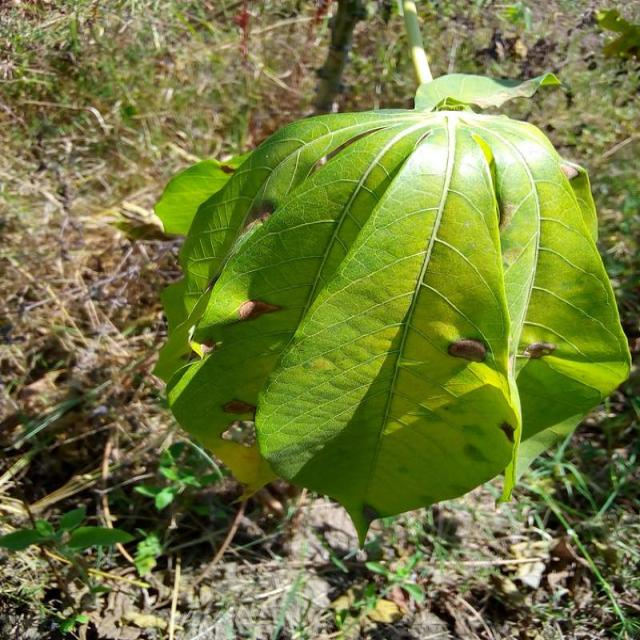cassava leaf: (154, 93, 632, 547)
